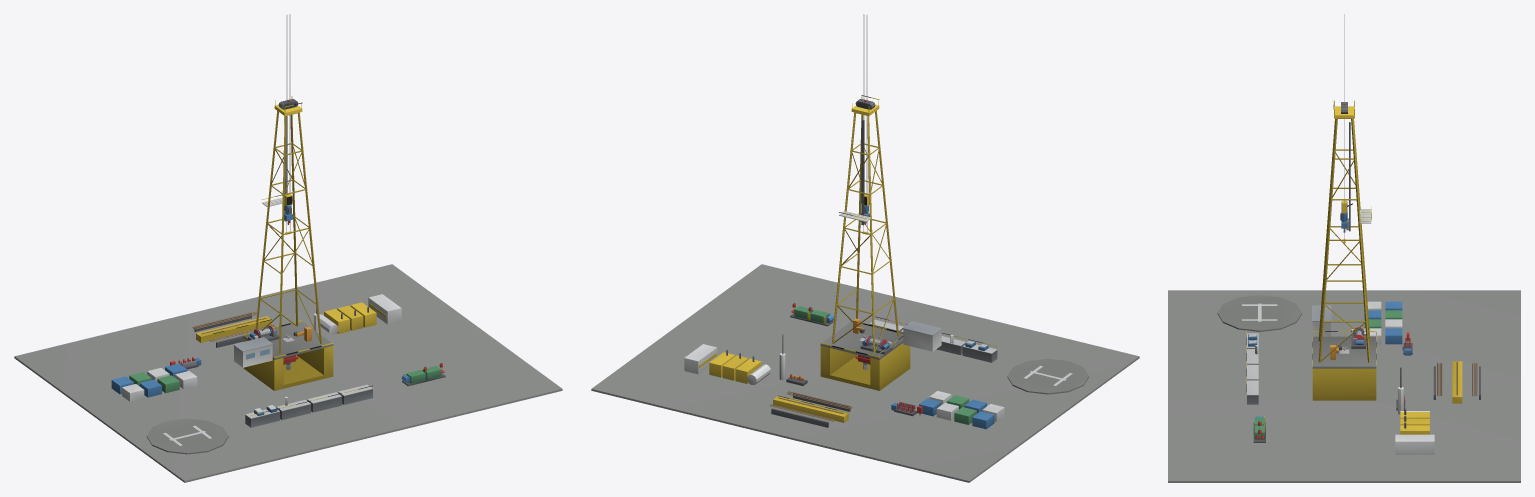
Rendered from heli_low.glb.
3 renders of one model, left to right at view 1: azimuth 30°, elevation 25°; view 2: azimuth 150°, elevation 25°; view 3: azimuth 270°, elevation 25°, orthographic. The views are drawn at different scales.
Visible parts, largest first — view 1: site__pad, site__modules, mast__mast, mast__substructure, mudtanks__tanks, mast__floor, generators__gensets, mast__doghouse, pipehandling__catwalk, pipehandling__racker, block__travelling, generators__vfd; view 2: site__pad, site__modules, mast__mast, mast__substructure, mast__floor, generators__gensets, mudtanks__tanks, pipehandling__racker, mast__doghouse, pipehandling__catwalk, generators__vfd, block__travelling; view 3: site__pad, site__modules, mast__mast, mast__substructure, mast__floor, generators__vfd, mudtanks__tanks, generators__gensets, pipehandling__racker, mast__doghouse, pipehandling__catwalk.
Boxes of the visible parts, x1,y1,x2,y2 form: site__pad: (14,264,562,482); site__modules: (111,363,228,454); mast__mast: (255,111,321,353); mast__substructure: (243,338,333,390); mudtanks__tanks: (245,384,372,427); mast__floor: (243,320,333,359); generators__gensets: (324,302,376,333); mast__doghouse: (233,337,273,367); pipehandling__catwalk: (196,316,271,342); pipehandling__racker: (192,311,275,347); block__travelling: (284,14,292,205); generators__vfd: (368,294,401,324); site__pad: (591,264,1139,482); site__modules: (919,358,1088,429); mast__mast: (832,111,898,353); mast__substructure: (820,343,910,390); mast__floor: (820,320,903,359); generators__gensets: (709,350,761,383); mudtanks__tanks: (869,316,997,362); pipehandling__racker: (769,391,852,427); mast__doghouse: (902,321,942,351); pipehandling__catwalk: (773,395,848,422); generators__vfd: (684,344,717,374); block__travelling: (863,14,869,205); site__pad: (1168,290,1520,482); site__modules: (1217,295,1402,344); mast__mast: (1318,118,1370,362); mast__substructure: (1312,368,1376,400); mast__floor: (1312,331,1376,368); generators__vfd: (1395,434,1434,454); mudtanks__tanks: (1246,330,1258,404); generators__gensets: (1400,409,1429,434); pipehandling__racker: (1433,363,1480,399); mast__doghouse: (1312,305,1331,336); pipehandling__catwalk: (1452,361,1462,403).
Size of the model in its own units: 64 by 58.24 by 50.
